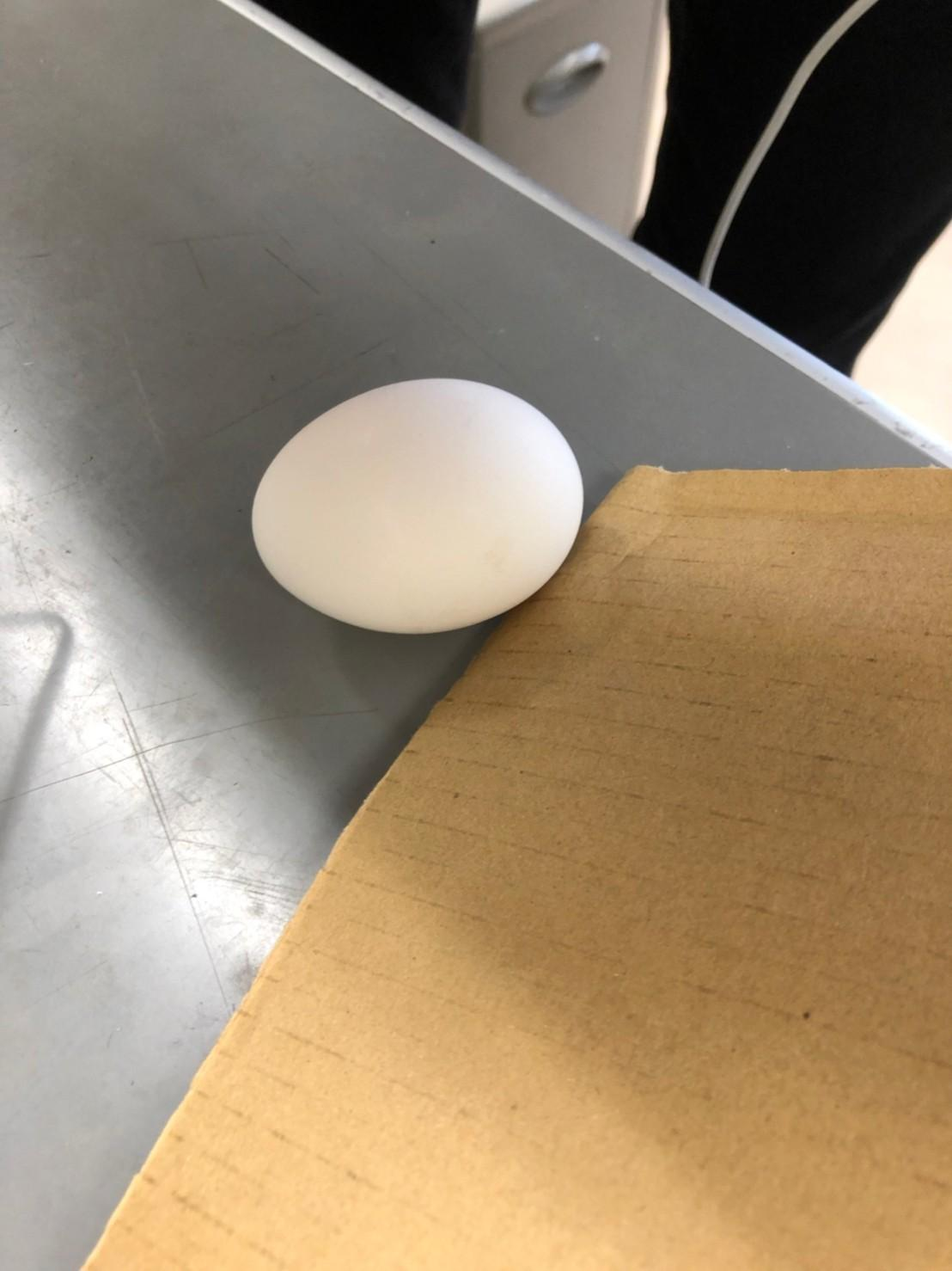egg: (247, 375, 588, 636)
